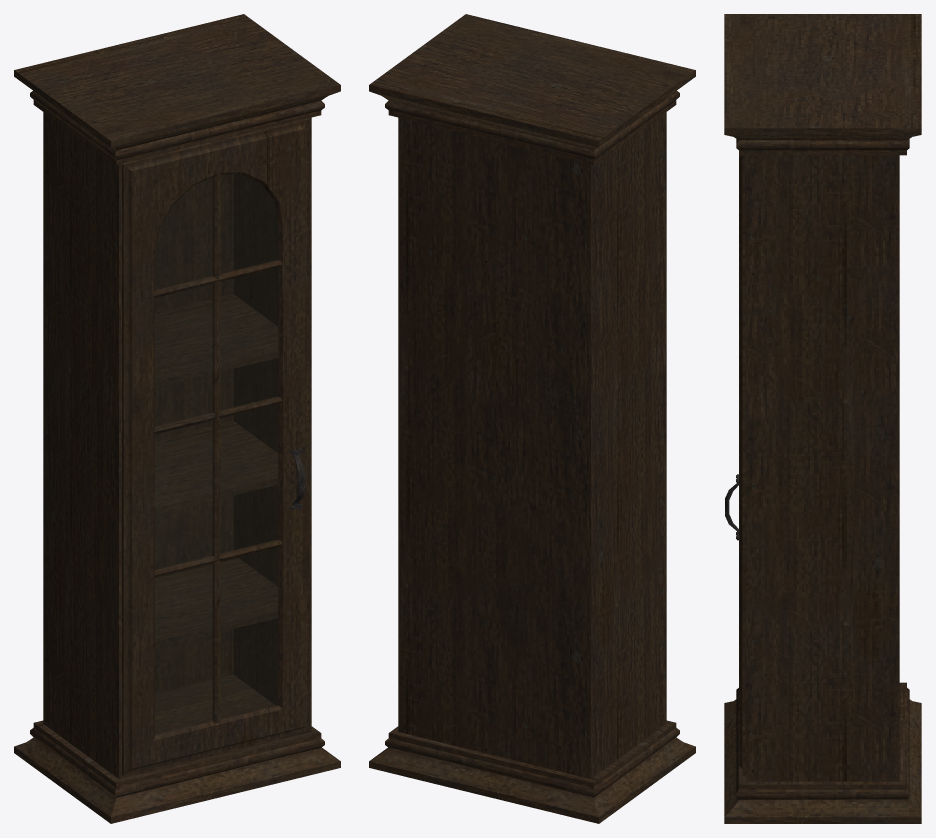
File: display_cabinet_mp_1_1.glb
The picture shows the model from 3 angles, left to right: view 1: azimuth 30°, elevation 25°; view 2: azimuth 150°, elevation 25°; view 3: azimuth 270°, elevation 25°; orthographic projection.
Visible parts, largest first — view 1: display_cabinet_mp_1_1, display_cabinet_mp_1_1_door; view 2: display_cabinet_mp_1_1; view 3: display_cabinet_mp_1_1, display_cabinet_mp_1_1_door.
Part boxes in pixels (x1=…): display_cabinet_mp_1_1: x1=14, y1=14, x2=340, y2=823; display_cabinet_mp_1_1_door: x1=122, y1=118, x2=309, y2=775; display_cabinet_mp_1_1: x1=369, y1=14, x2=695, y2=823; display_cabinet_mp_1_1: x1=724, y1=14, x2=921, y2=823; display_cabinet_mp_1_1_door: x1=725, y1=155, x2=746, y2=775.
Bounding box in the file's own units: 0.74 × 2.1 × 0.54.
3 materials, 3 textured.
